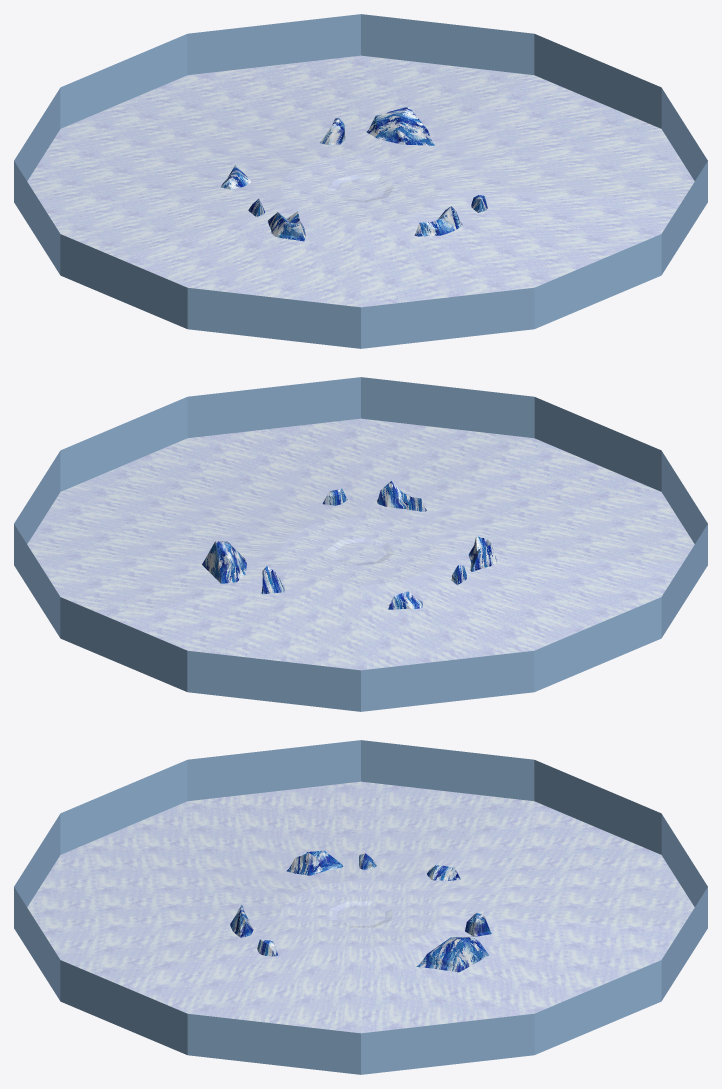
The model's file is ex_wario_all.obj.
The picture shows the model from 3 angles, top to bottom: view 1: azimuth 30°, elevation 25°; view 2: azimuth 150°, elevation 25°; view 3: azimuth 270°, elevation 25°; orthographic projection.
Parts seen in each view (by area): view 1: r0; view 2: r0; view 3: r0.
Boxes of the visible parts, x1=… form: r0: x1=14, y1=14, x2=707, y2=348; r0: x1=14, y1=377, x2=707, y2=711; r0: x1=14, y1=740, x2=707, y2=1074.
Bounding box in the file's own units: 45.41 × 3 × 45.41.
